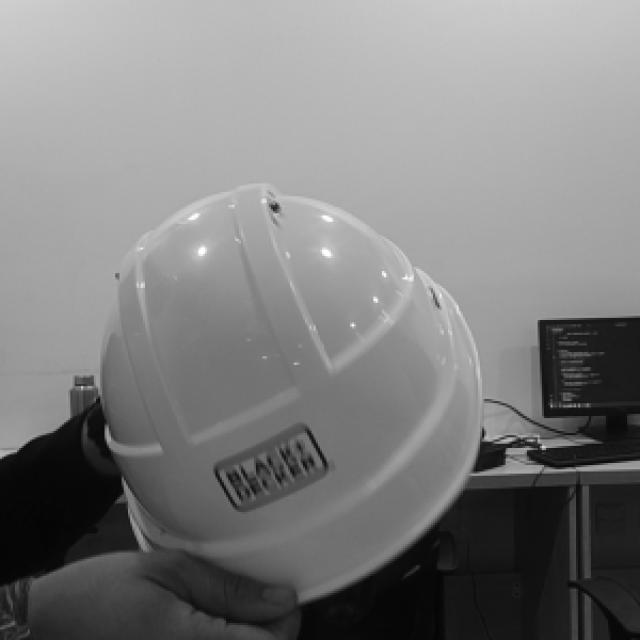safety_helmet: (101, 182, 484, 605)
